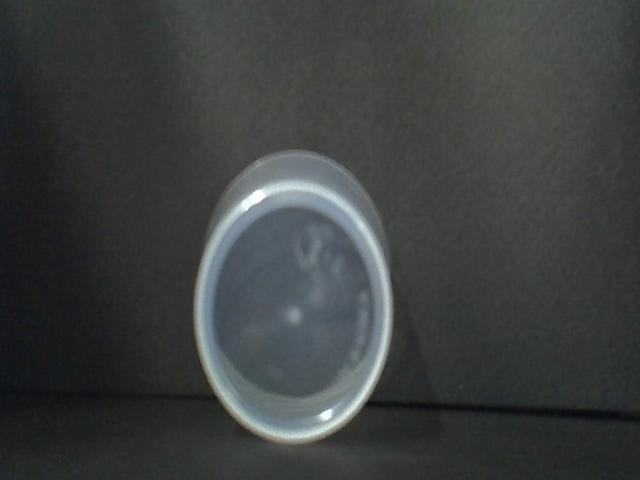cup: (183, 140, 402, 461)
